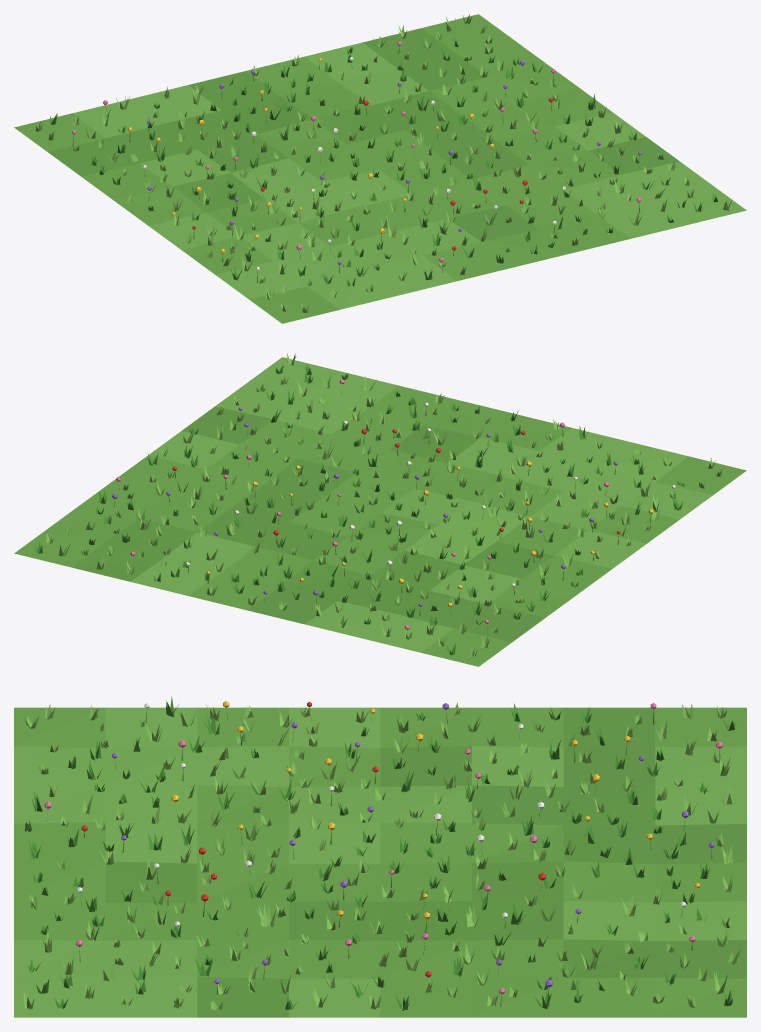
File: gramado-flores.glb
3 renders of one model, top to bottom at view 1: azimuth 30°, elevation 25°; view 2: azimuth 150°, elevation 25°; view 3: azimuth 270°, elevation 25°, orthographic. The views are drawn at different scales.
Visible parts, largest first — view 1: Gramado, Tufos, Flores, Hastes; view 2: Gramado, Tufos, Flores, Hastes; view 3: Gramado, Tufos, Flores, Hastes.
Boxes of the visible parts, left/top/right/bottom form: Gramado: left=14, top=14, right=746, bottom=323; Tufos: left=35, top=14, right=731, bottom=312; Flores: left=72, top=41, right=641, bottom=270; Hastes: left=72, top=46, right=640, bottom=282; Gramado: left=14, top=357, right=746, bottom=666; Tufos: left=35, top=353, right=721, bottom=656; Flores: left=112, top=379, right=675, bottom=629; Hastes: left=114, top=390, right=674, bottom=638; Gramado: left=14, top=707, right=746, bottom=1017; Tufos: left=23, top=696, right=741, bottom=1010; Flores: left=44, top=701, right=722, bottom=994; Hastes: left=46, top=708, right=720, bottom=1006.
Size of the model in its own units: 12 by 0.4298 by 12.
